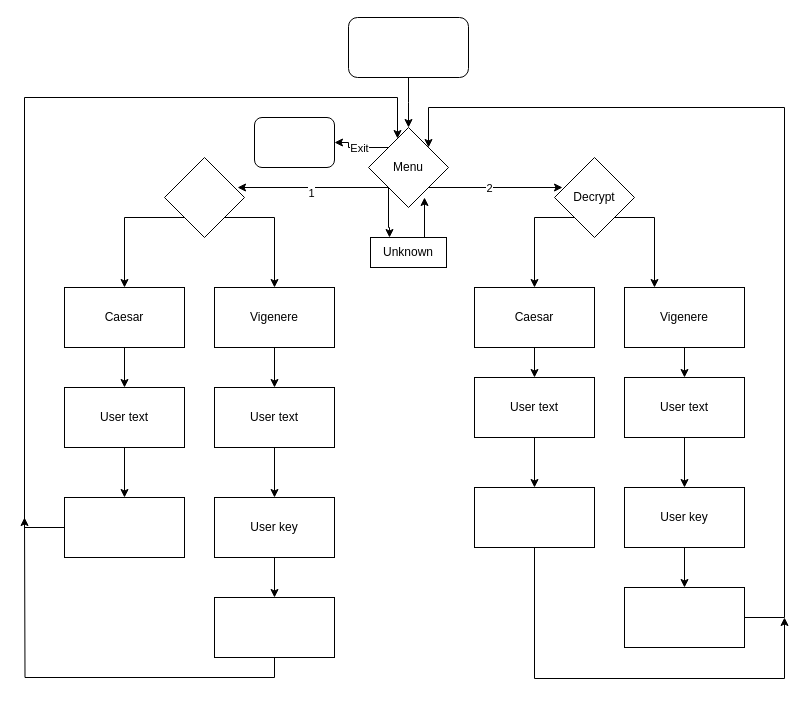
Some shapes in this 810 by 704 pixel diagram are drawn without their labels. Here are the shapes that lost their labels. From the top down, the centre of each, then its label:
the point at 408,47: Start
the point at 294,142: End
the point at 204,197: Encrypt
the point at 124,527: Present user with encrypted text:
the point at 534,517: Present user with decrypted text:
the point at 274,627: Present user with encrypted text
the point at 684,617: Present user with decrypted text
